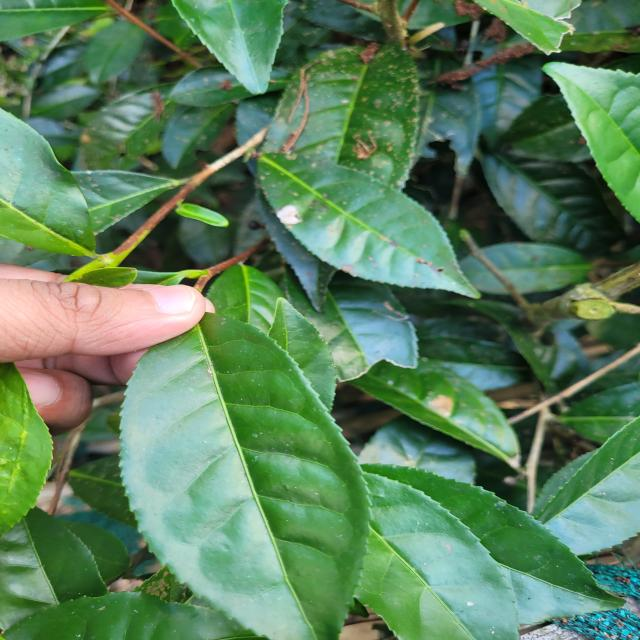Category D(7+ days, Not for Tea): (115, 278, 382, 640)
